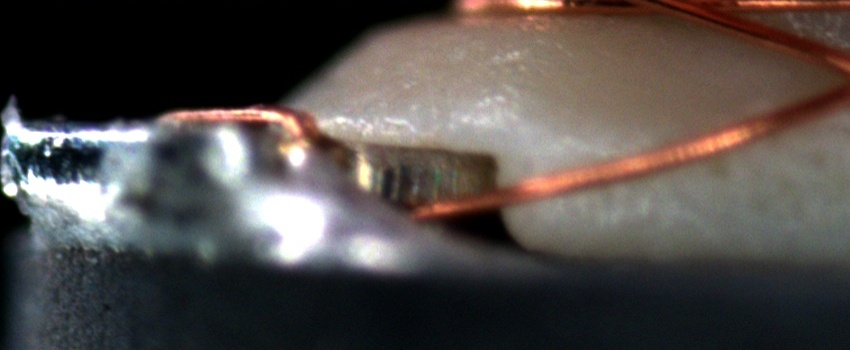TE: (155, 95, 322, 136)
